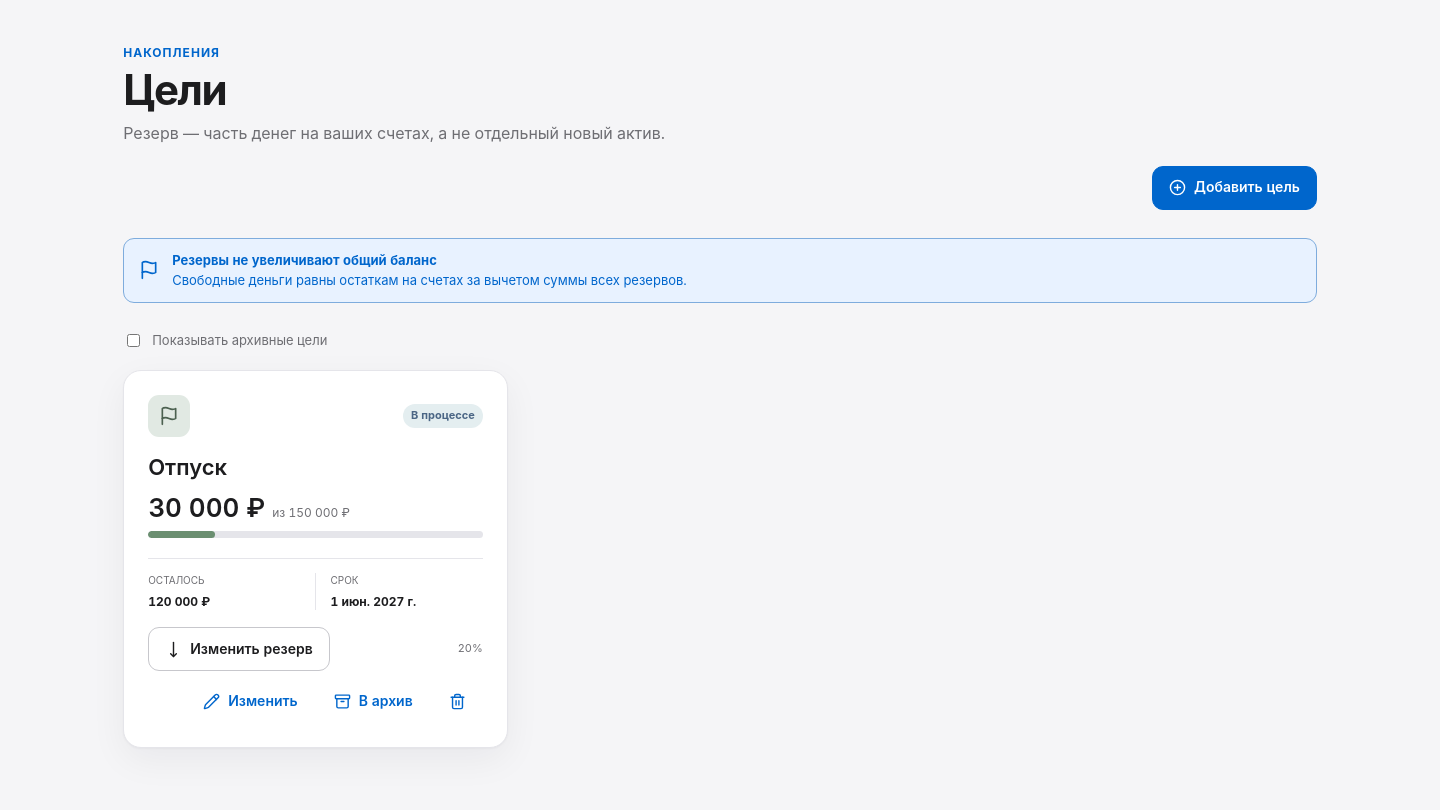
Scenario: goal reserve operations › offers archiving when safe deletion is rejected because the goal has history
Expected: the heading "Отпуск" is shown, left=148, top=454, right=227, bottom=480
Click the button named "Удалить цель Отпуск" at (457, 701), box left=432, top=679, right=483, bottom=723
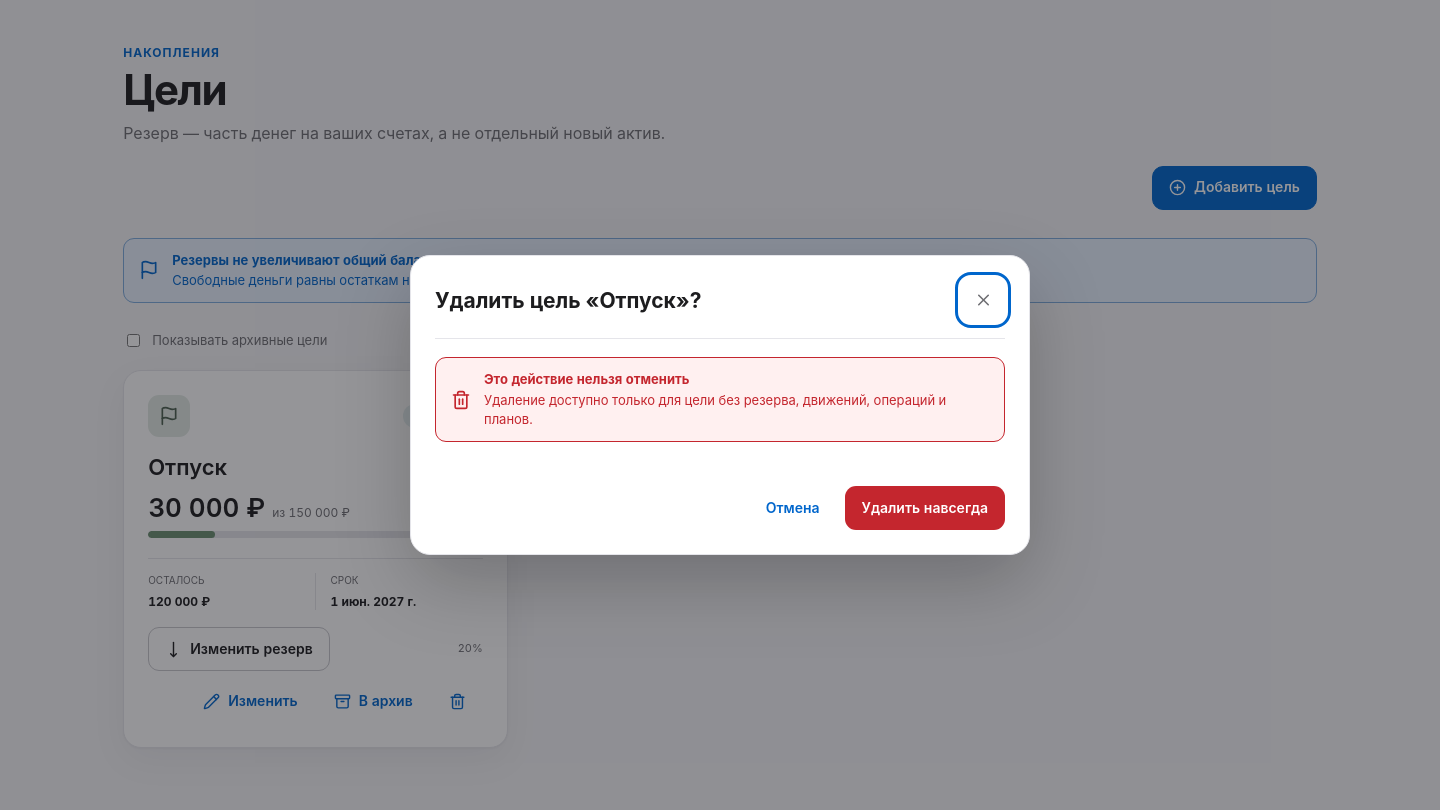
Click the button "Удалить навсегда" at (925, 508), box left=844, top=486, right=1005, bottom=530
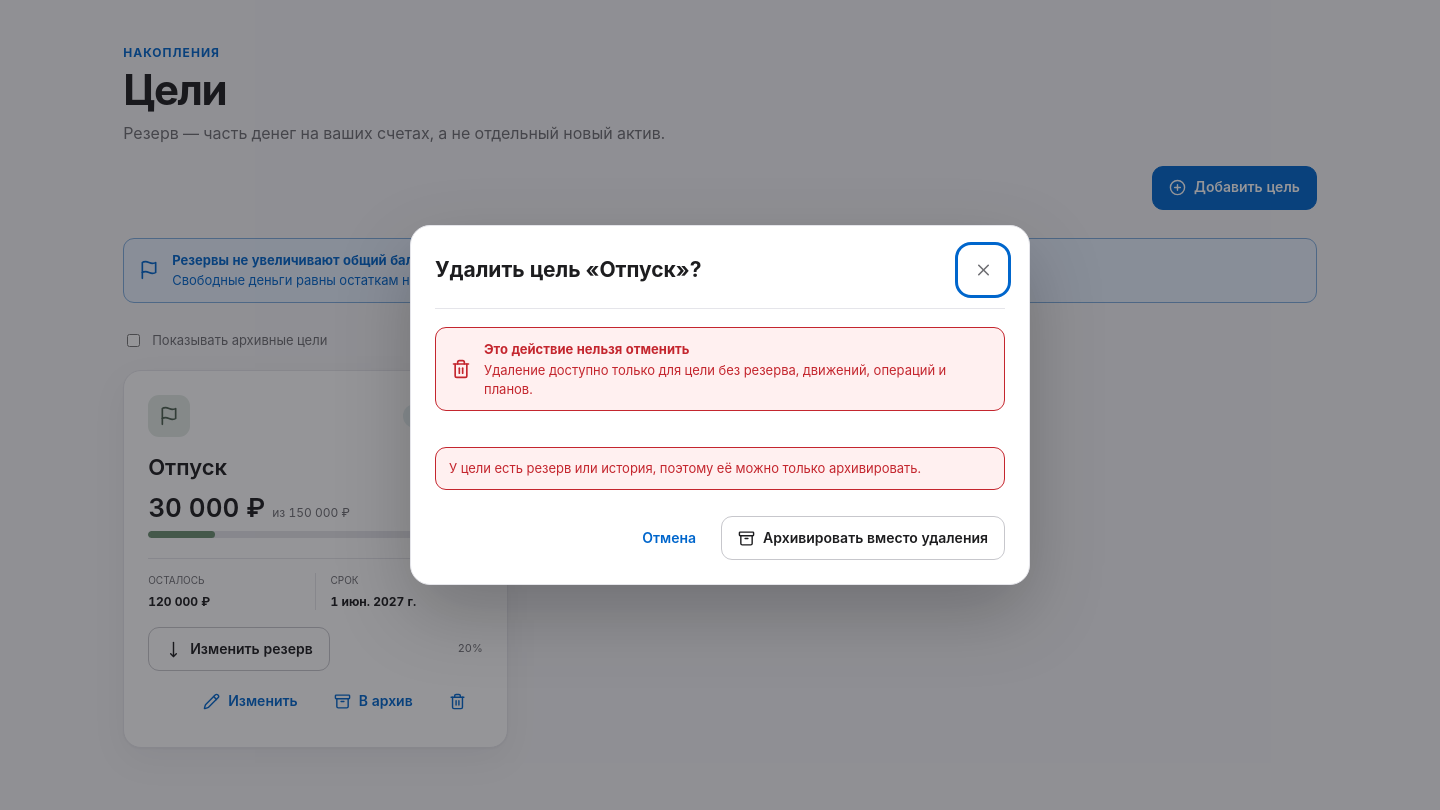
Expected: the message reads "У цели есть резерв или история, поэтому её можно только архивировать.", left=449, top=460, right=921, bottom=476
Click the button "Архивировать вместо удаления" at (863, 538), box left=721, top=516, right=1005, bottom=560
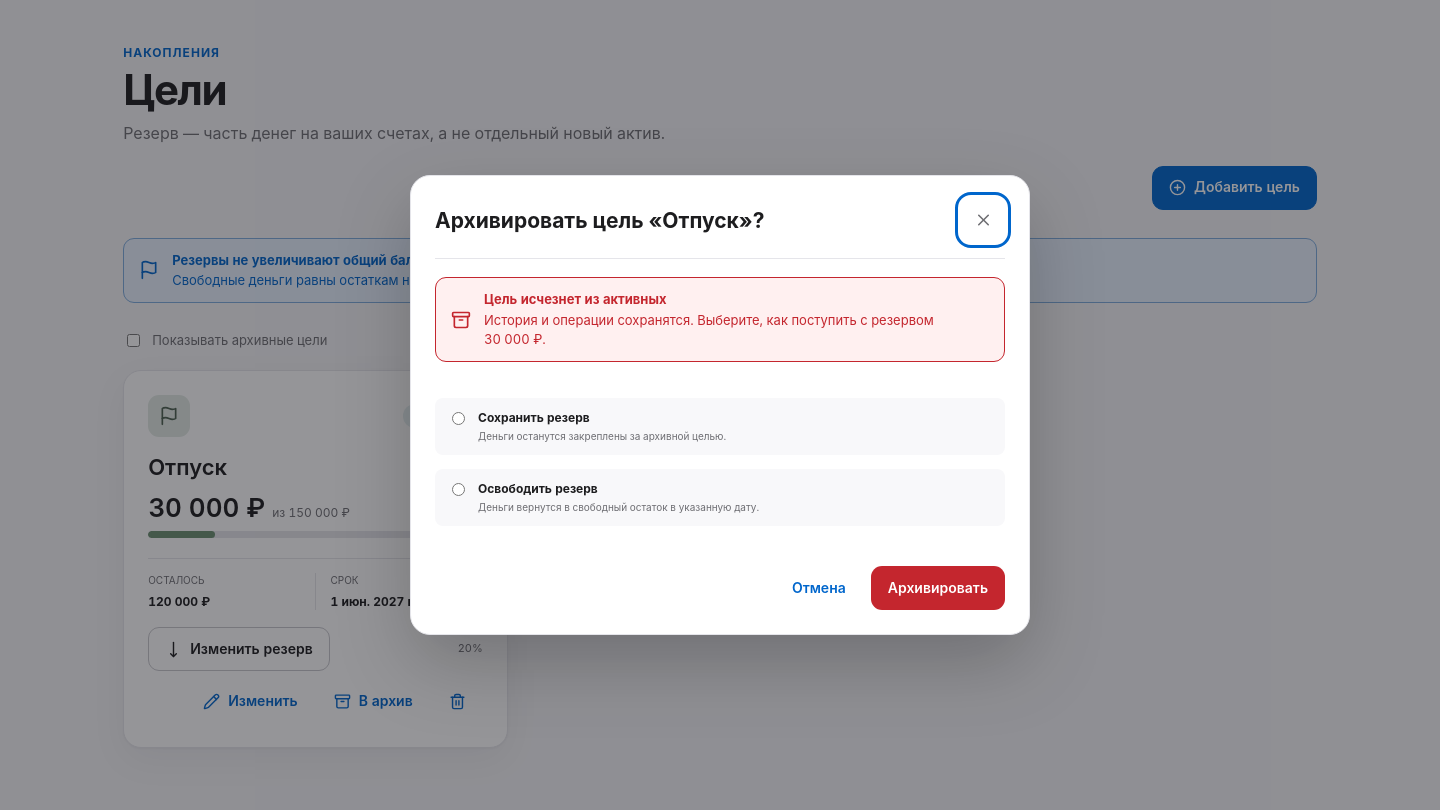
Expected: the dialog "Архивировать цель «Отпуск»?" is shown, left=410, top=175, right=1030, bottom=635
Expected: the element named "Судьба резерва" is shown, left=435, top=398, right=1005, bottom=540
